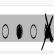correct: (16, 20, 23, 40)
no answer: (2, 22, 9, 40), (30, 23, 37, 40)
not correct: (40, 10, 54, 53)
